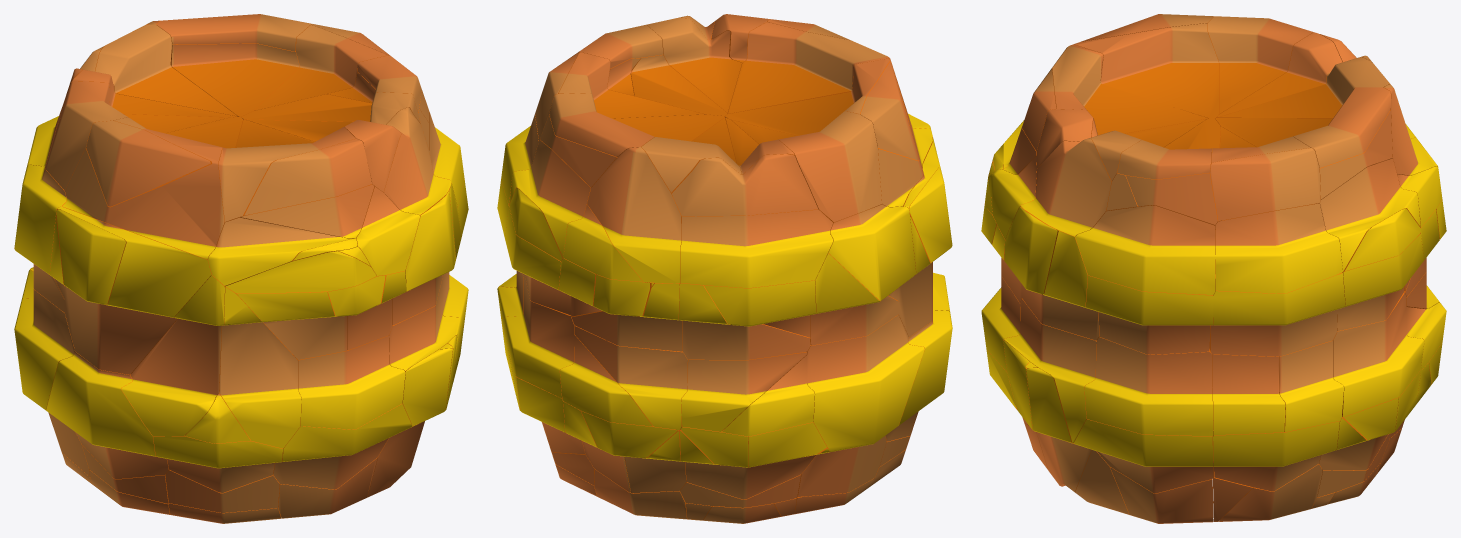
Rendered from Barrel-Cell-Fracture.fbx.
The picture shows the model from 3 angles, left to right: view 1: azimuth 30°, elevation 25°; view 2: azimuth 150°, elevation 25°; view 3: azimuth 270°, elevation 25°; orthographic projection.
Visible parts, largest first — view 1: Barrel_cell.021, Barrel_cell.065, Barrel_cell.029, Barrel_cell.031, Barrel_cell.053, Barrel_cell.034, Barrel_cell.017, Barrel_cell.073, Barrel_cell.018, Barrel_cell.047, Barrel_cell.064, Barrel_cell.093 (+39 smaller); view 2: Barrel_cell.067, Barrel_cell.090, Barrel_cell.004, Barrel_cell.093, Barrel_cell.066, Barrel_cell.039, Barrel_cell.065, Barrel_cell.088, Barrel_cell.008, Barrel_cell.075, Barrel_cell.030, Barrel_cell.084 (+44 smaller); view 3: Barrel_cell.055, Barrel_cell.007, Barrel_cell.022, Barrel_cell.065, Barrel_cell.025, Barrel_cell.006, Barrel_cell.084, Barrel_cell.091, Barrel_cell.058, Barrel_cell.093, Barrel_cell.066, Barrel_cell.001 (+42 smaller).
Part boxes in pixels (x1=…): Barrel_cell.021: x1=50, y1=206, x2=211, y2=374; Barrel_cell.065: x1=62, y1=117, x2=243, y2=259; Barrel_cell.029: x1=121, y1=275, x2=224, y2=436; Barrel_cell.031: x1=219, y1=286, x2=301, y2=448; Barrel_cell.053: x1=46, y1=352, x2=168, y2=479; Barrel_cell.034: x1=293, y1=335, x2=405, y2=429; Barrel_cell.017: x1=170, y1=43, x2=299, y2=116; Barrel_cell.073: x1=273, y1=403, x2=412, y2=489; Barrel_cell.018: x1=86, y1=120, x2=210, y2=206; Barrel_cell.047: x1=95, y1=24, x2=237, y2=116; Barrel_cell.064: x1=244, y1=138, x2=372, y2=215; Barrel_cell.093: x1=218, y1=119, x2=355, y2=222; Barrel_cell.067: x1=806, y1=314, x2=924, y2=451; Barrel_cell.090: x1=680, y1=209, x2=833, y2=287; Barrel_cell.004: x1=587, y1=147, x2=681, y2=283; Barrel_cell.093: x1=728, y1=22, x2=890, y2=113; Barrel_cell.066: x1=731, y1=111, x2=881, y2=222; Barrel_cell.039: x1=672, y1=154, x2=818, y2=216; Barrel_cell.065: x1=725, y1=58, x2=932, y2=207; Barrel_cell.088: x1=828, y1=204, x2=916, y2=300; Barrel_cell.008: x1=681, y1=352, x2=807, y2=431; Barrel_cell.075: x1=574, y1=325, x2=688, y2=429; Barrel_cell.030: x1=679, y1=283, x2=810, y2=359; Barrel_cell.084: x1=504, y1=274, x2=575, y2=398; Barrel_cell.055: x1=1084, y1=337, x2=1213, y2=436; Barrel_cell.007: x1=1075, y1=205, x2=1215, y2=294; Barrel_cell.022: x1=1215, y1=203, x2=1342, y2=293; Barrel_cell.065: x1=1073, y1=23, x2=1219, y2=118; Barrel_cell.025: x1=1209, y1=272, x2=1345, y2=356; Barrel_cell.006: x1=1086, y1=275, x2=1213, y2=354; Barrel_cell.084: x1=1333, y1=292, x2=1424, y2=417; Barrel_cell.091: x1=1210, y1=148, x2=1320, y2=220; Barrel_cell.058: x1=1074, y1=419, x2=1213, y2=493; Barrel_cell.093: x1=1052, y1=44, x2=1208, y2=135; Barrel_cell.066: x1=1207, y1=16, x2=1313, y2=113; Barrel_cell.001: x1=1213, y1=421, x2=1339, y2=491.
Size of the model in its own units: 2.4 by 2.19 by 2.52.
